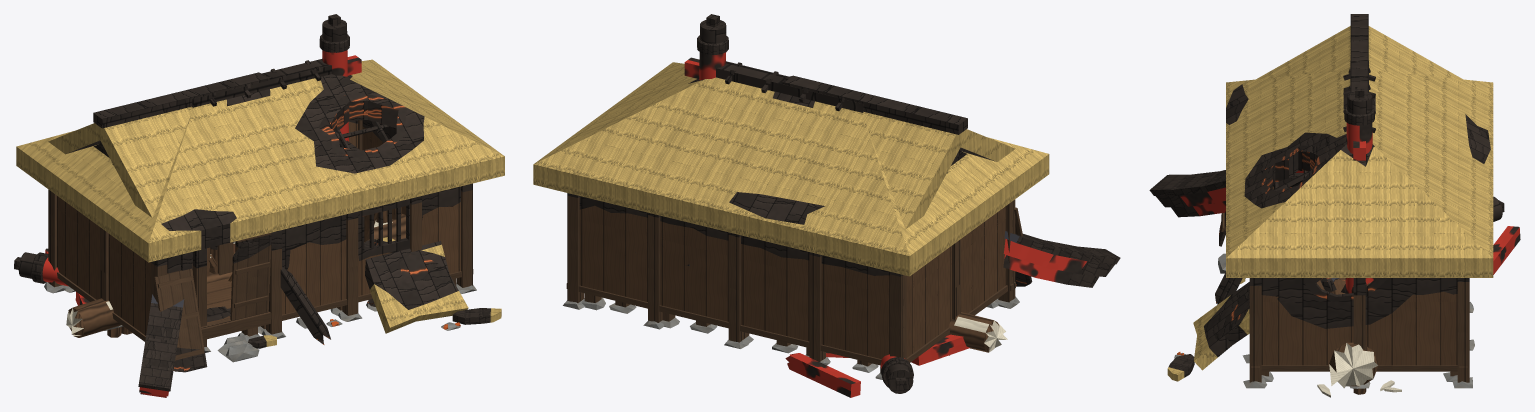
The model's file is jura_batch_C.glb.
3 views of the same model, side by side, from view 1: azimuth 30°, elevation 25°; view 2: azimuth 150°, elevation 25°; view 3: azimuth 270°, elevation 25° (orthographic). The views are drawn at different scales.
Visible parts, largest first — view 1: oni_house_c_Roof, oni_house_c_Walls, oni_house_a_Roof, oni_house_c_Frame, oni_house_a_Debris, oni_house_c_Debris, torii_broken_Fallen, trampled_log_Bark, torii_broken_Pillars, oni_house_b_Debris, oni_house_a_Frame, oni_house_c_Stone (+4 smaller); view 2: oni_house_c_Roof, oni_house_c_Walls, oni_house_c_Frame, oni_house_a_Roof, torii_broken_Fallen, torii_broken_Pillars, trampled_log_Bark, oni_house_b_Stone, oni_house_c_Stone; view 3: oni_house_c_Roof, oni_house_c_Walls, oni_house_a_Roof, oni_house_c_Frame, torii_broken_Fallen, oni_house_a_Debris, trampled_log_Bark, torii_broken_Pillars, oni_house_c_Stone, oni_house_b_Debris.
Part boxes in pixels (<box>): oni_house_c_Roof: <box>16,59,504,262</box>; oni_house_c_Walls: <box>57,120,460,335</box>; oni_house_a_Roof: <box>48,72,271,217</box>; oni_house_c_Frame: <box>48,120,473,341</box>; oni_house_a_Debris: <box>365,241,501,333</box>; oni_house_c_Debris: <box>153,232,395,372</box>; torii_broken_Fallen: <box>14,248,184,397</box>; trampled_log_Bark: <box>66,214,405,337</box>; torii_broken_Pillars: <box>319,14,361,141</box>; oni_house_b_Debris: <box>248,267,375,348</box>; oni_house_a_Frame: <box>112,164,456,346</box>; oni_house_c_Stone: <box>44,282,476,362</box>; oni_house_c_Roof: <box>533,61,1049,276</box>; oni_house_c_Walls: <box>579,196,1006,358</box>; oni_house_c_Frame: <box>566,193,1015,365</box>; oni_house_a_Roof: <box>773,75,1015,229</box>; torii_broken_Fallen: <box>785,231,1120,397</box>; torii_broken_Pillars: <box>684,14,728,80</box>; trampled_log_Bark: <box>947,312,1007,352</box>; oni_house_b_Stone: <box>609,303,878,372</box>; oni_house_c_Stone: <box>563,296,1019,365</box>; oni_house_c_Roof: <box>1226,61,1493,277</box>; oni_house_c_Walls: <box>1261,278,1457,365</box>; oni_house_a_Roof: <box>1256,14,1462,110</box>; oni_house_c_Frame: <box>1249,173,1469,382</box>; torii_broken_Fallen: <box>1149,170,1520,274</box>; oni_house_a_Debris: <box>1167,279,1374,381</box>; trampled_log_Bark: <box>1317,342,1401,397</box>; torii_broken_Pillars: <box>1344,87,1374,293</box>; oni_house_c_Stone: <box>1218,253,1474,388</box>; oni_house_b_Debris: <box>1215,272,1245,304</box>.
Bounding box in the file's own units: 32.02 × 19.85 × 24.97.
1 material, 1 textured.
